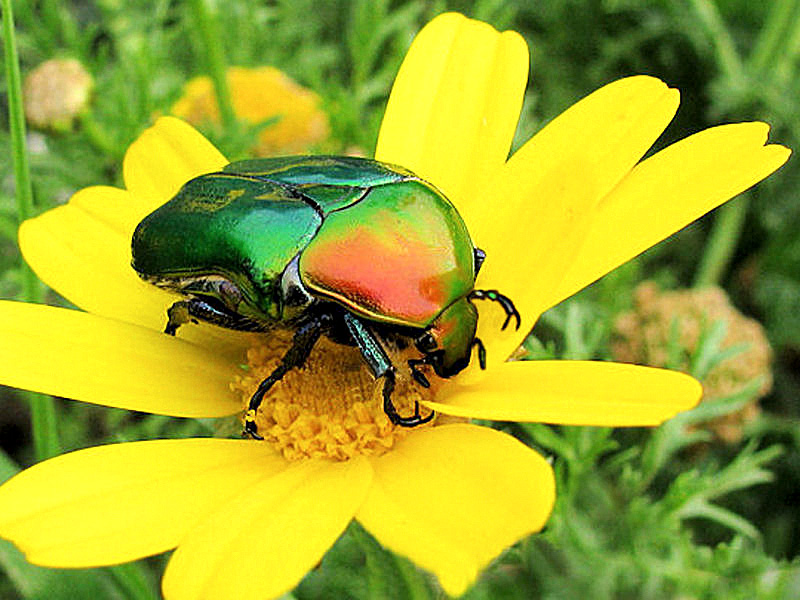Protaetia_cuprea_ignicollis: (123, 116, 525, 455)
